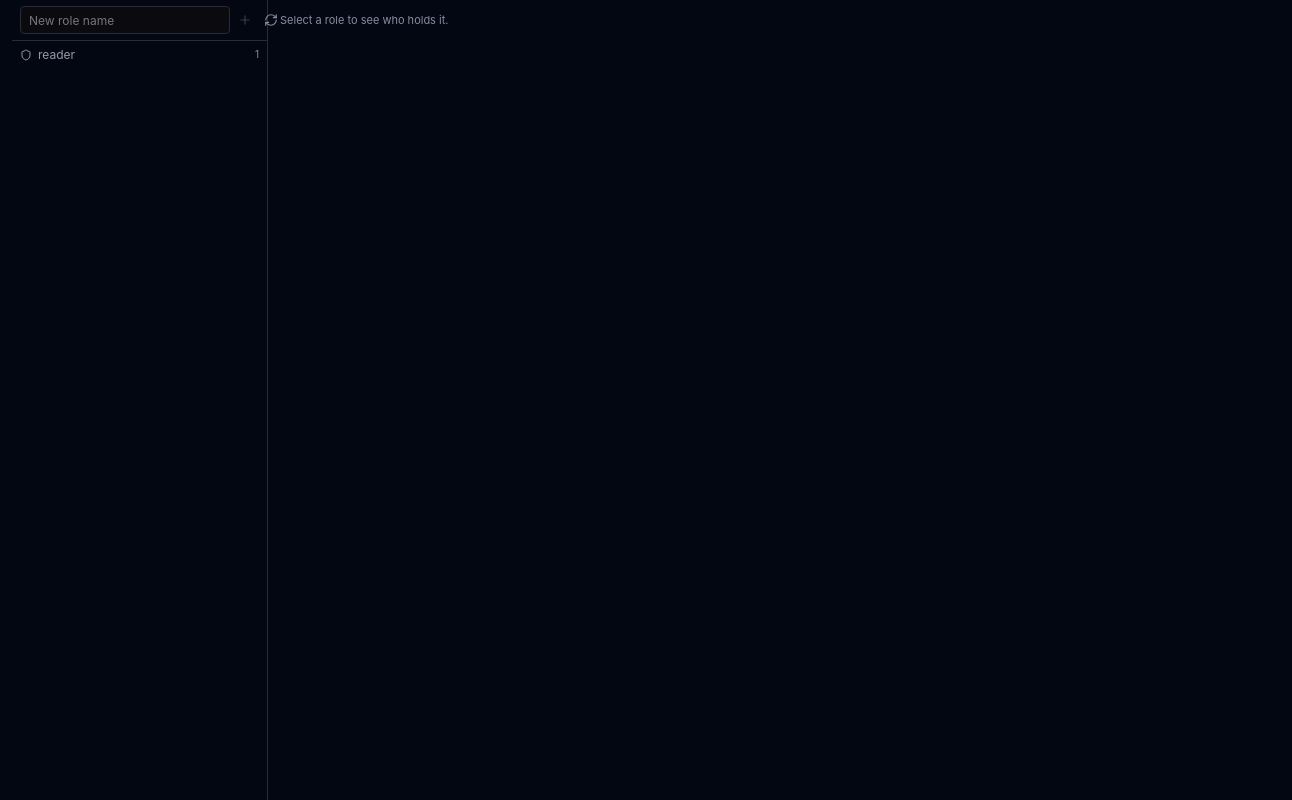
Scenario: RolesTab (#435) › reports a failure instead of throwing
Step 1. Click the text "reader" → (56, 55), box [38, 47, 75, 63]
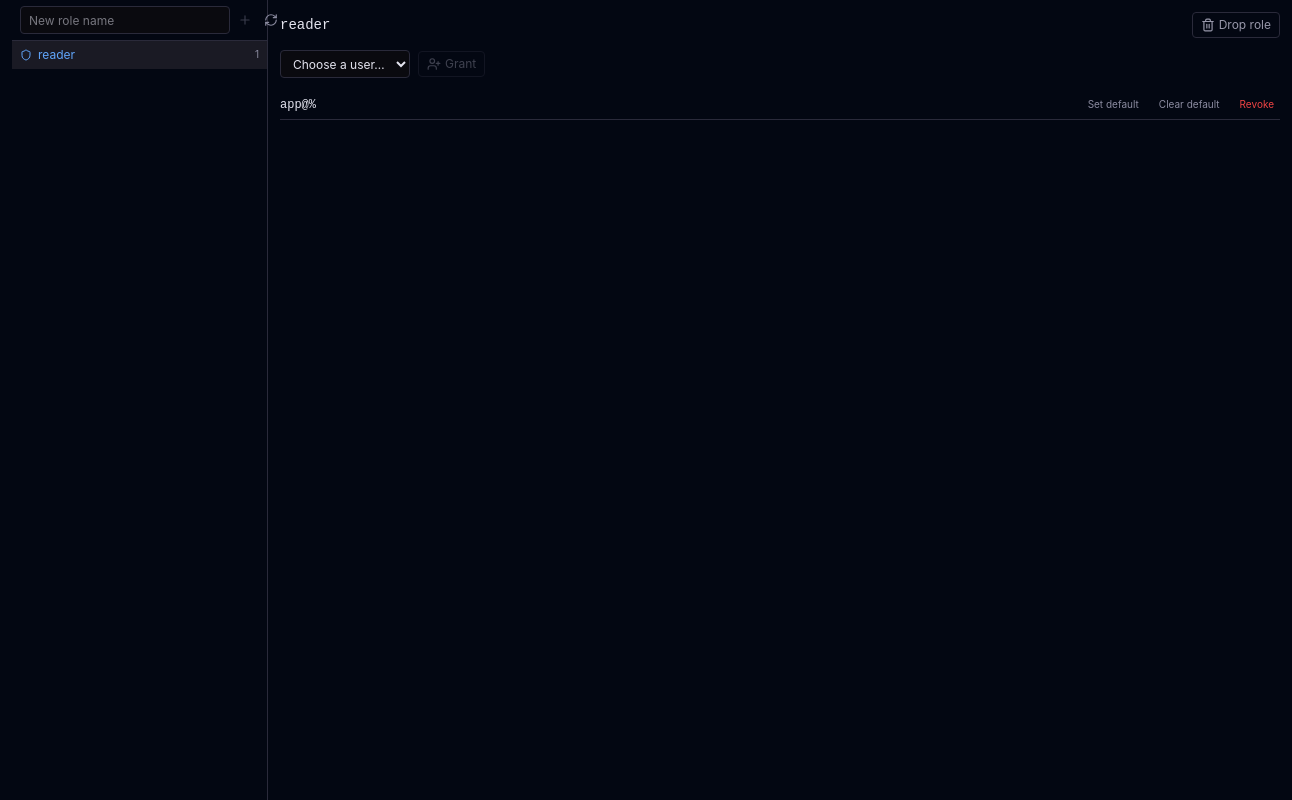
Step 2. Click the button "Revoke" → (1257, 105), box [1234, 96, 1280, 113]
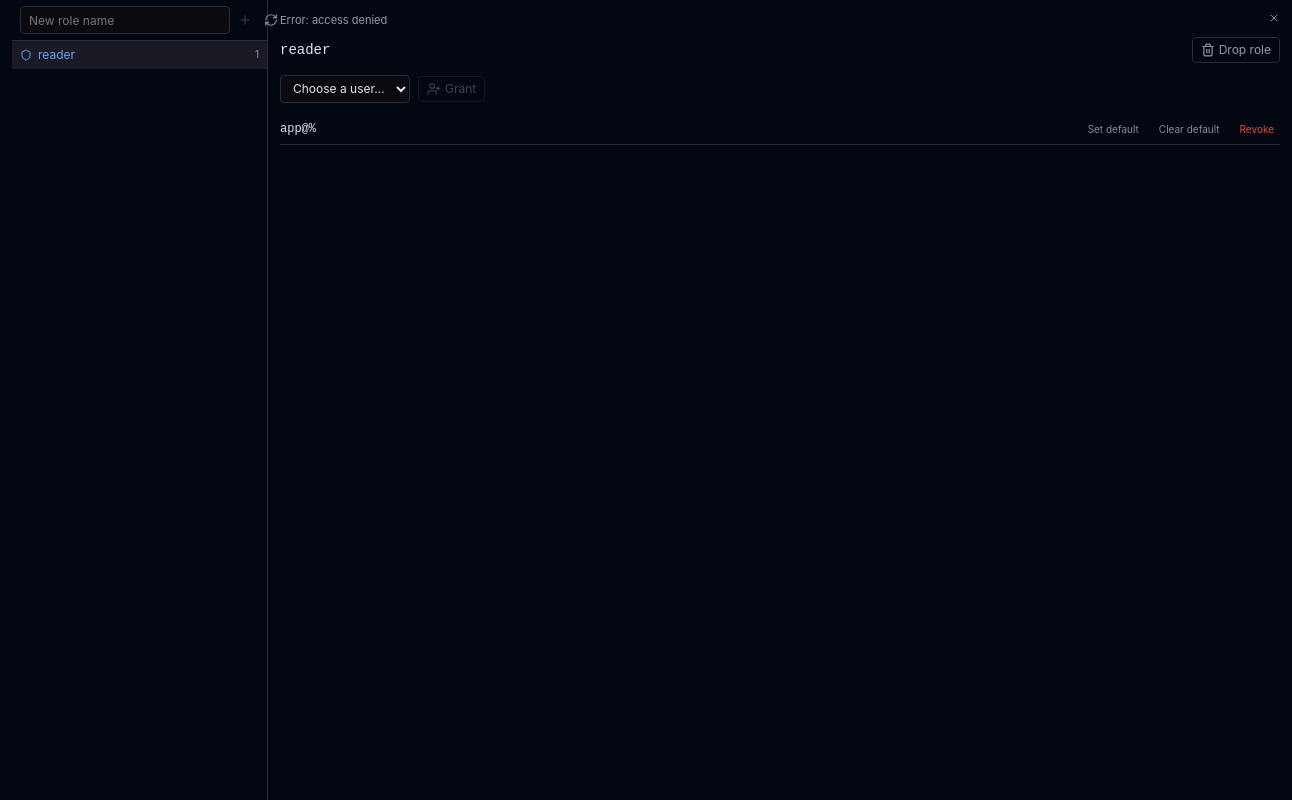
Check: the message shows "access denied", box [280, 13, 387, 27]
